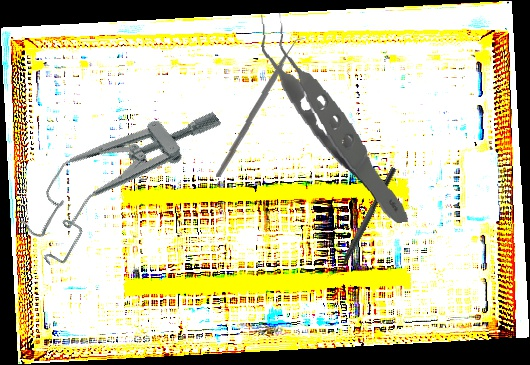Chopper: (211, 37, 315, 177), (325, 161, 398, 284)
Speculum: (5, 72, 232, 272)
Tissue Forceps: (258, 2, 410, 234)
